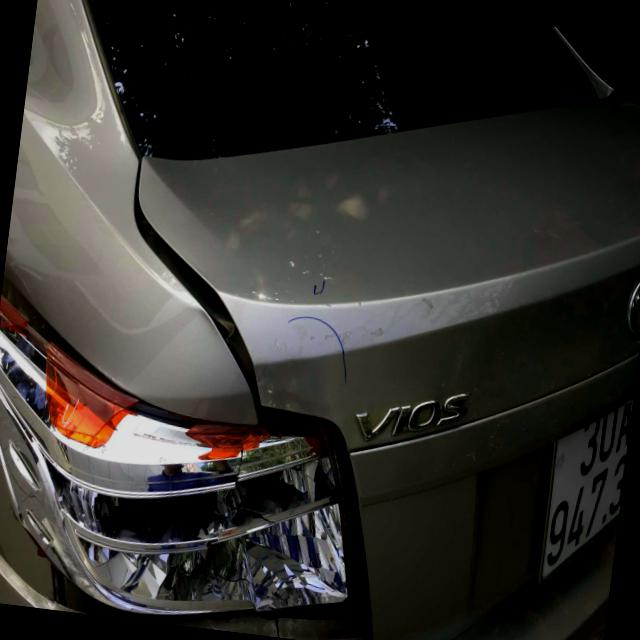Dechirure: (98, 150, 294, 425), (244, 609, 299, 639)
Phare abime: (0, 304, 393, 640)
